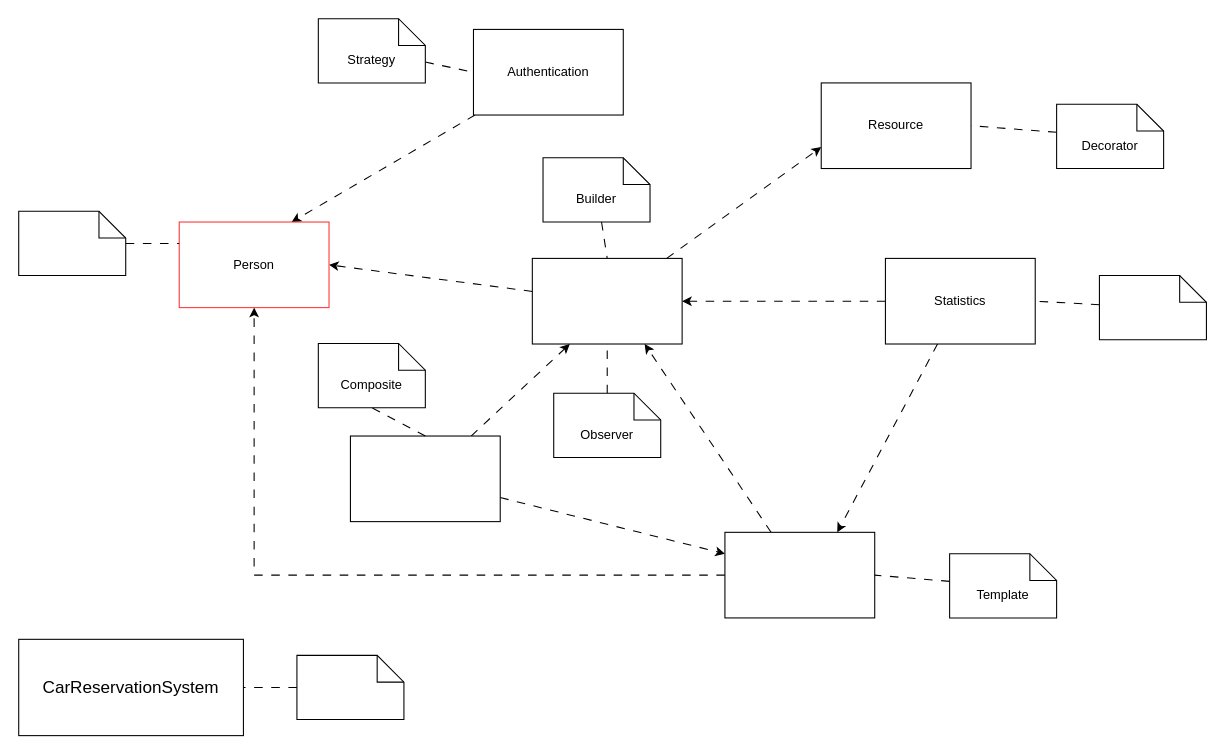
Some shapes in this 1225 by 754 pixel diagram are drawn without their labels. Here are the shapes that lost their labels. From the top down, the centre of each, then its label:
(x=72, y=243): Factory
(x=606, y=300): Booking
(x=1152, y=307): Visitor
(x=424, y=478): Content
(x=799, y=574): Payment
(x=350, y=687): Singleton
